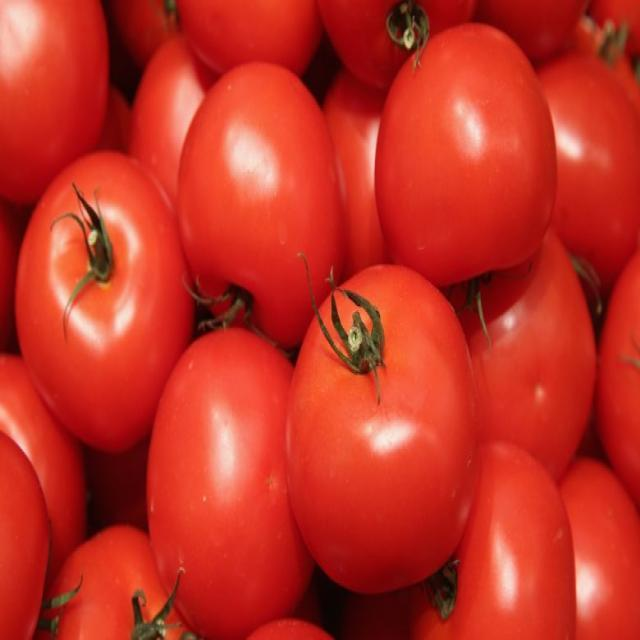kirmizi: (22, 88, 550, 580)
